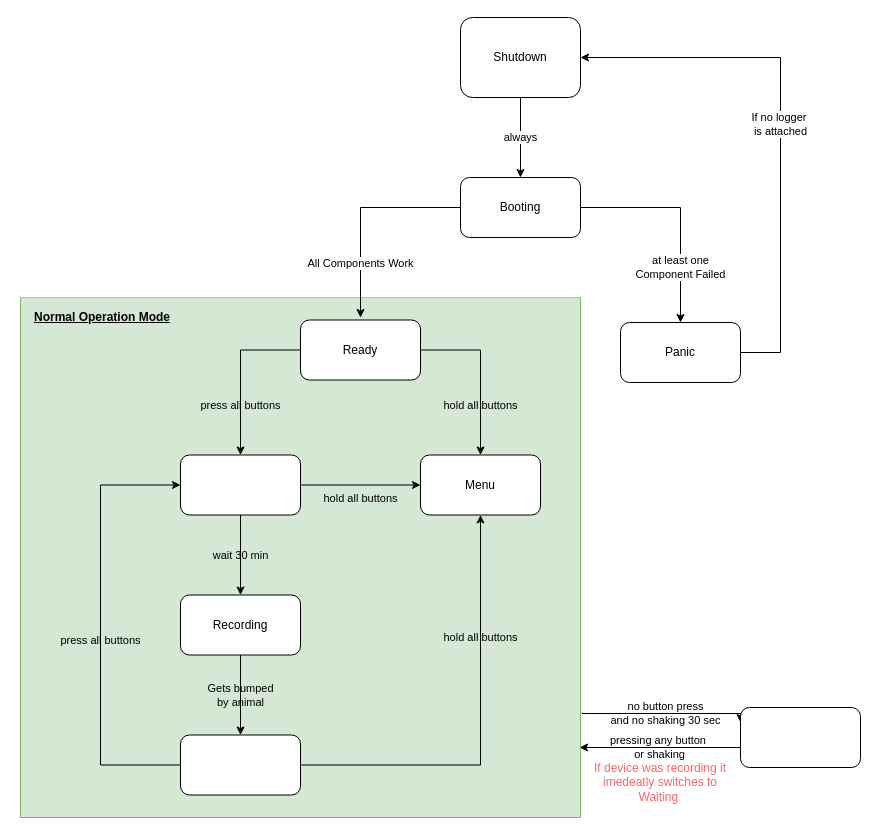
Some shapes in this 878 by 835 pixel diagram are drawn without their labels. Each missing label, with the centre of its shape:
Armed: point 240,484
sleep: point 800,737
Waiting: point 240,764
